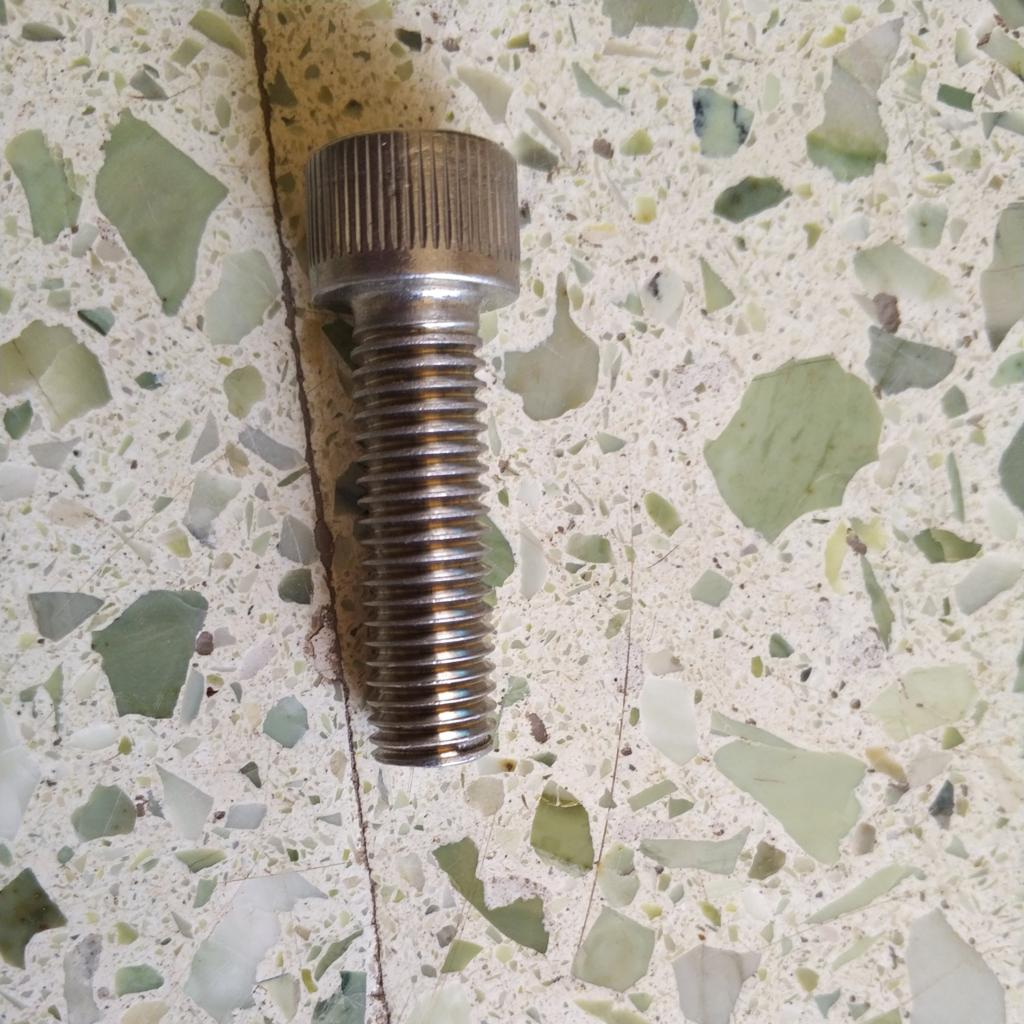screwtype1silver: (289, 121, 533, 774)
